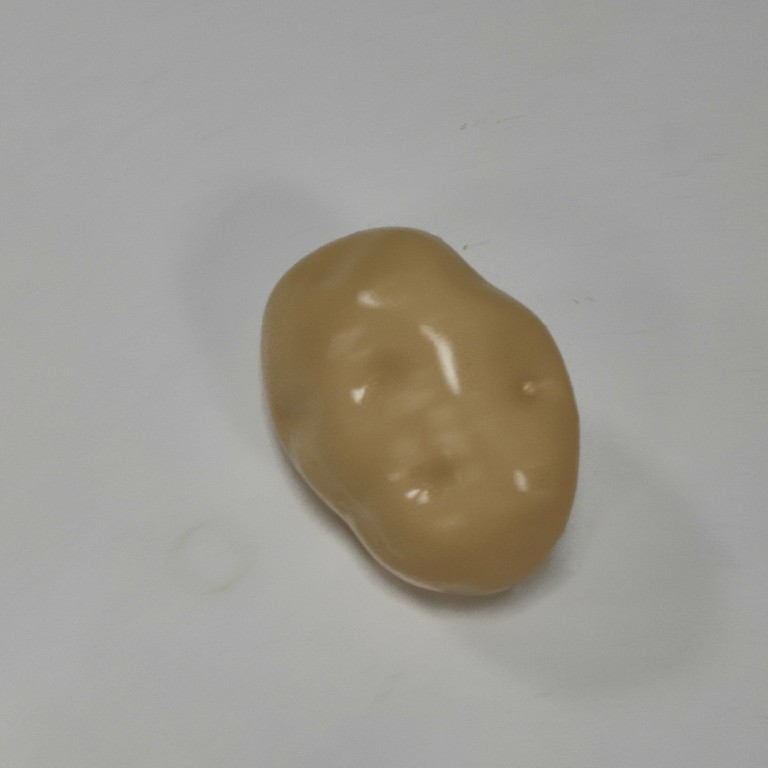fruit_potato: (255, 224, 585, 600)
